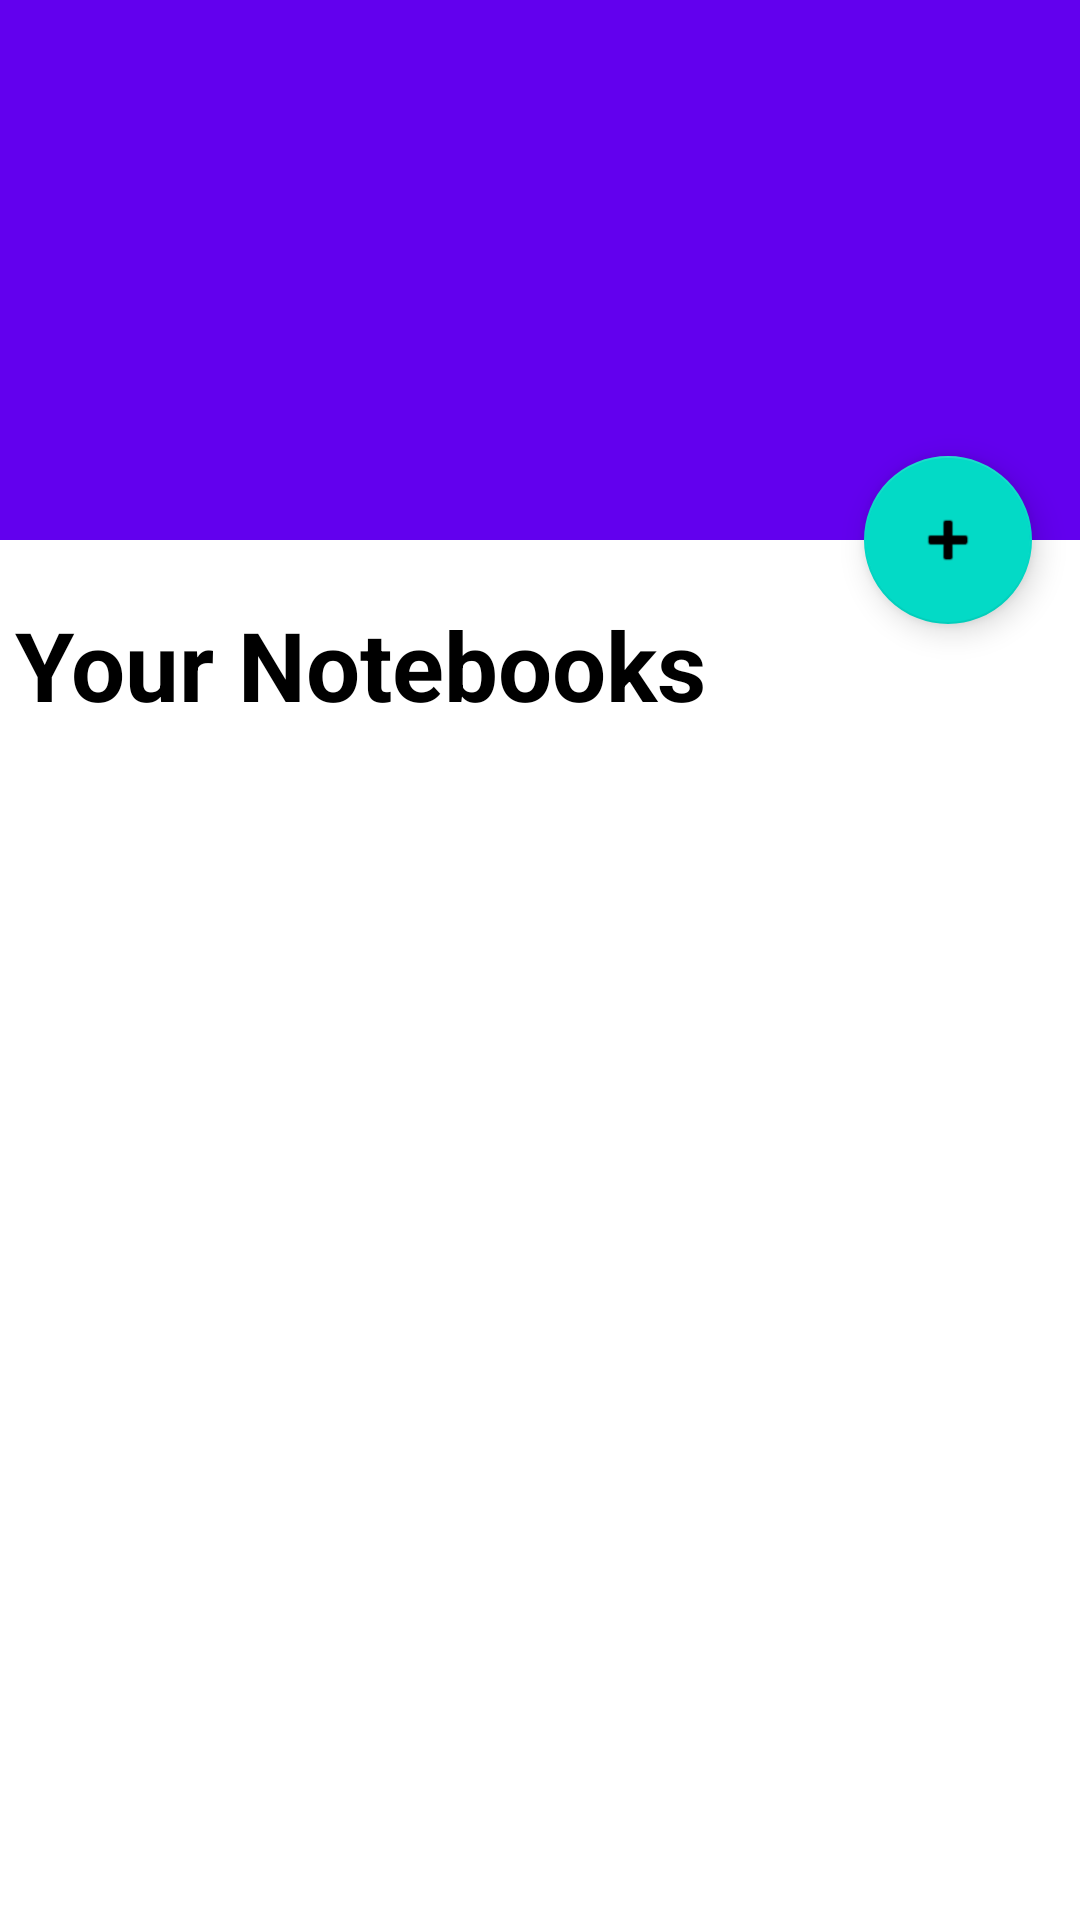

Named icons in this screenshot (1080x1920) and their centers, [x,y]:
add: [948,540]
